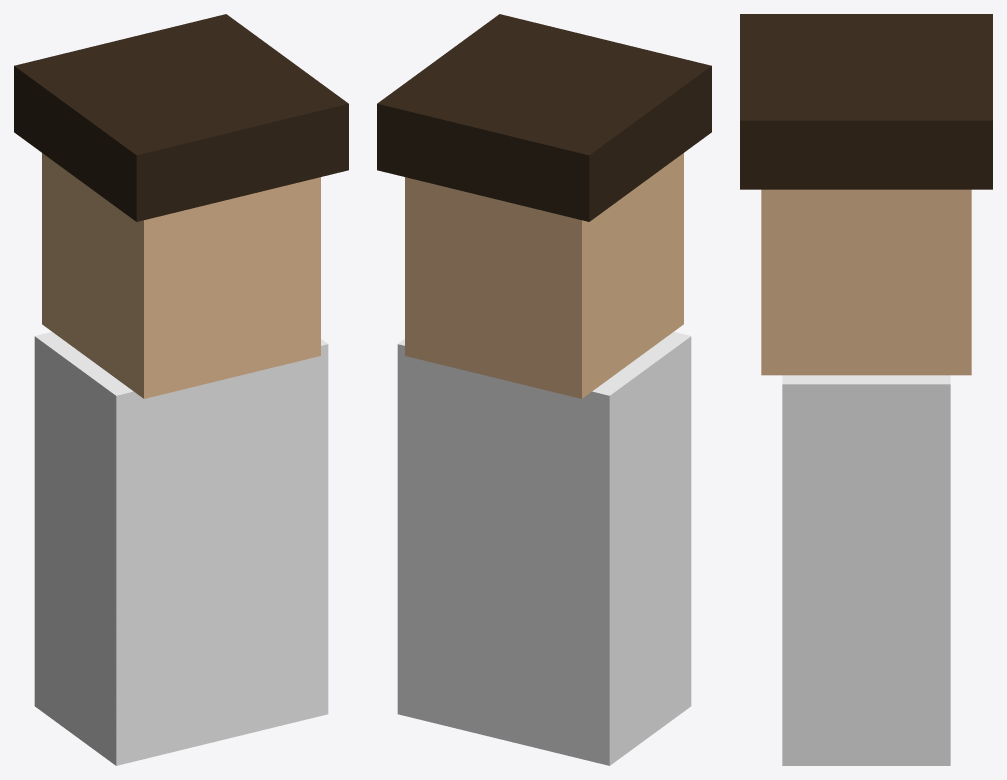
File: character-mayor.glb
3 renders of one model, left to right at view 1: azimuth 30°, elevation 25°; view 2: azimuth 150°, elevation 25°; view 3: azimuth 270°, elevation 25°, orthographic. The views are drawn at different scales.
Parts seen in each view (by area): view 1: body, head, hat; view 2: body, head, hat; view 3: body, hat, head.
Boxes of the visible parts, x1,y1,x2,y2 form: body: (34,332,328,765); head: (42,153,320,398); hat: (14,14,348,221); body: (397,332,691,765); head: (405,153,683,398); hat: (377,14,711,221); body: (782,375,950,765); hat: (740,14,992,189); head: (761,189,971,375).
Size of the model in its own units: 0.6 by 1.69 by 0.6.
